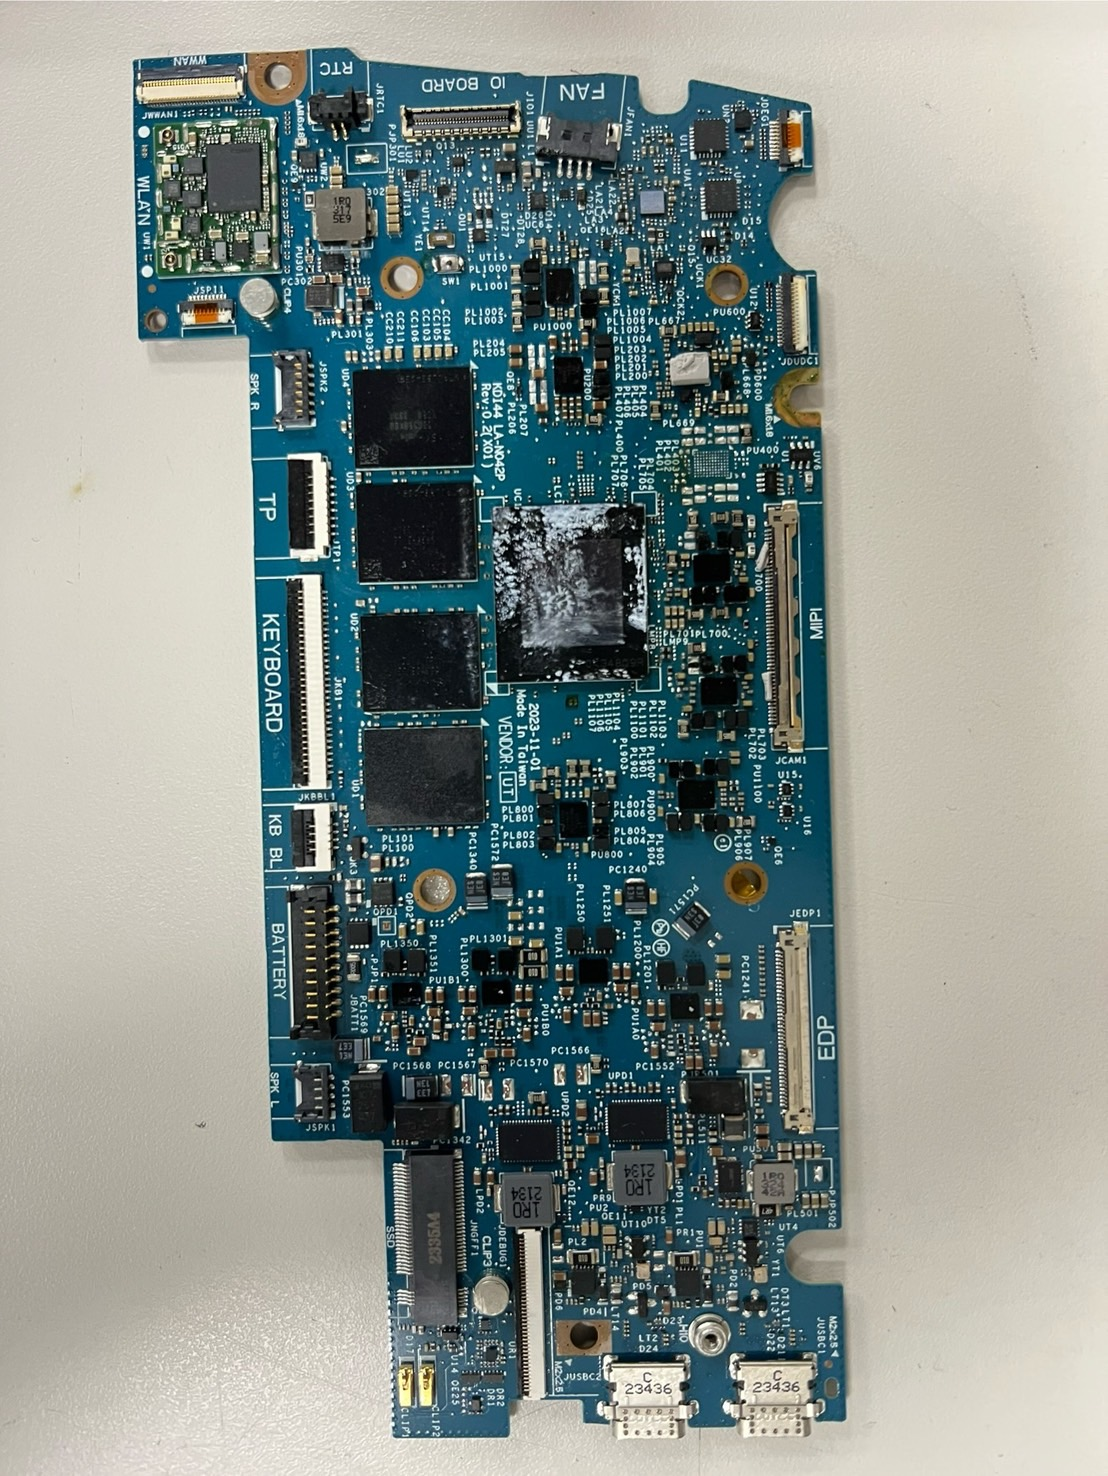error-garbage: (480, 485, 620, 624), (499, 650, 642, 684), (626, 531, 652, 636), (637, 643, 656, 657)
